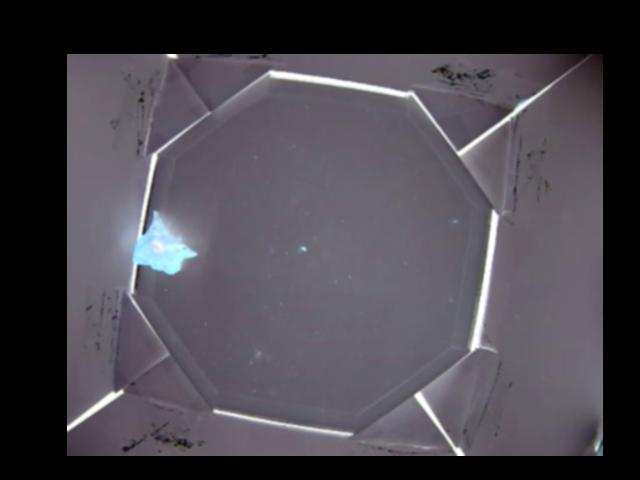Brisk: (131, 208, 195, 274)
